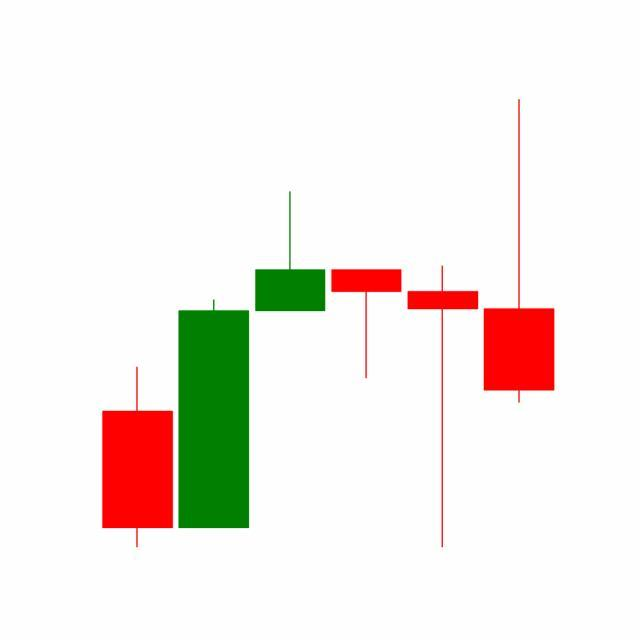Spinning Top: (404, 262, 482, 551)
